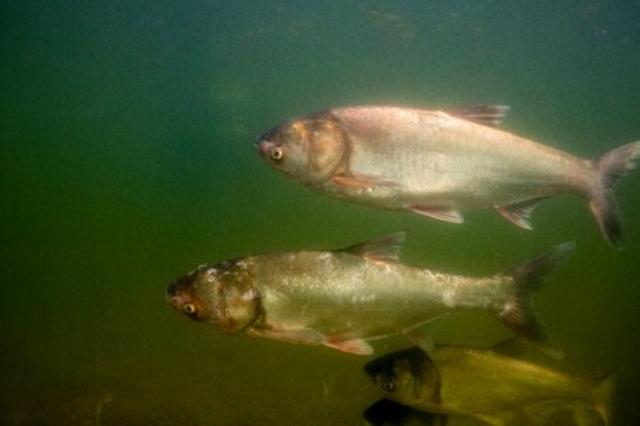Mulut: (154, 260, 190, 319), (248, 115, 278, 172)
Sirip Anal: (489, 174, 557, 233), (405, 304, 449, 358)
Sirip Dada: (238, 303, 322, 351), (336, 158, 410, 198)
Sirip Ekor: (494, 248, 580, 360), (576, 121, 640, 254)
Sirip Perut: (404, 197, 470, 233), (317, 332, 378, 364)
Sirip Punggung: (436, 79, 520, 143), (334, 223, 420, 276)
